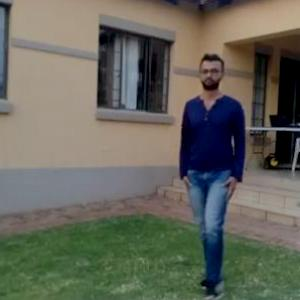follow: (177, 64, 243, 266)
